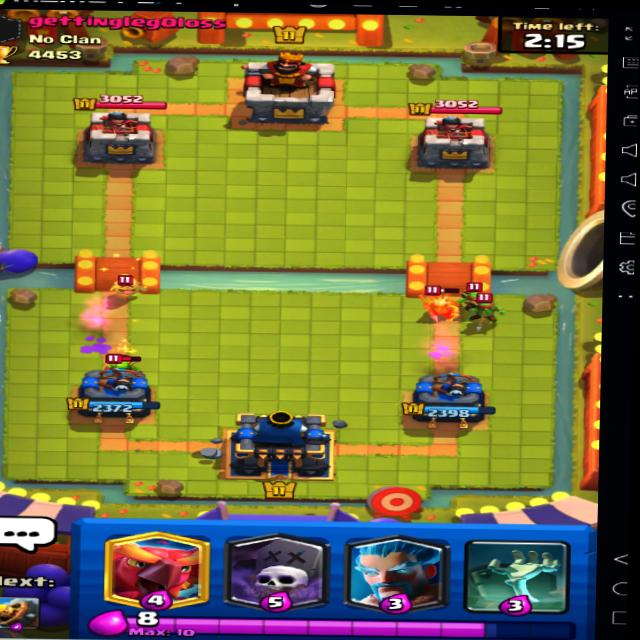Goblin: (100, 351, 142, 382)
Healspirit: (97, 263, 152, 304)
Speargoblin: (414, 291, 461, 320), (455, 280, 491, 313), (473, 298, 510, 324)
